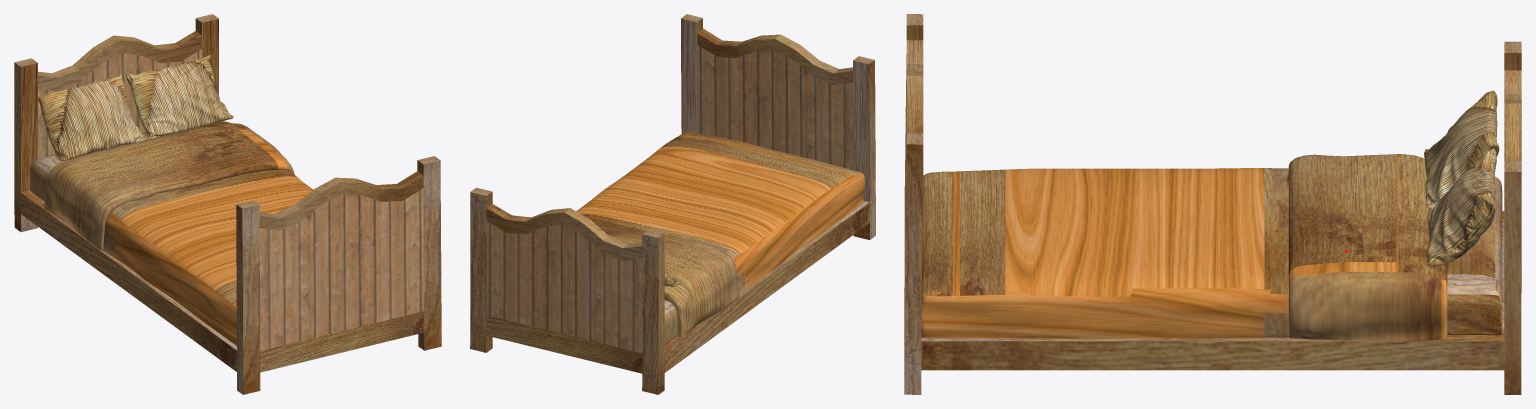
The model's file is Letto.fbx.
3 renders of one model, left to right at view 1: azimuth 30°, elevation 25°; view 2: azimuth 150°, elevation 25°; view 3: azimuth 270°, elevation 25°, orthographic. The views are drawn at different scales.
Visible parts, largest first — view 1: Struttura Esterna, Materasso, Cuscini; view 2: Struttura Esterna, Materasso; view 3: Materasso, Struttura Esterna, Cuscini.
Part boxes in pixels (x1,y1,x2,y2): Struttura Esterna: (14,14,441,394); Materasso: (29,121,313,345); Cuscini: (37,55,233,160); Struttura Esterna: (470,14,875,394); Materasso: (576,130,864,344); Materasso: (921,154,1502,343); Struttura Esterna: (904,14,1521,394); Cuscini: (1424,90,1499,265).
Bounding box in the file's own units: 1234 × 1107 × 2438.
